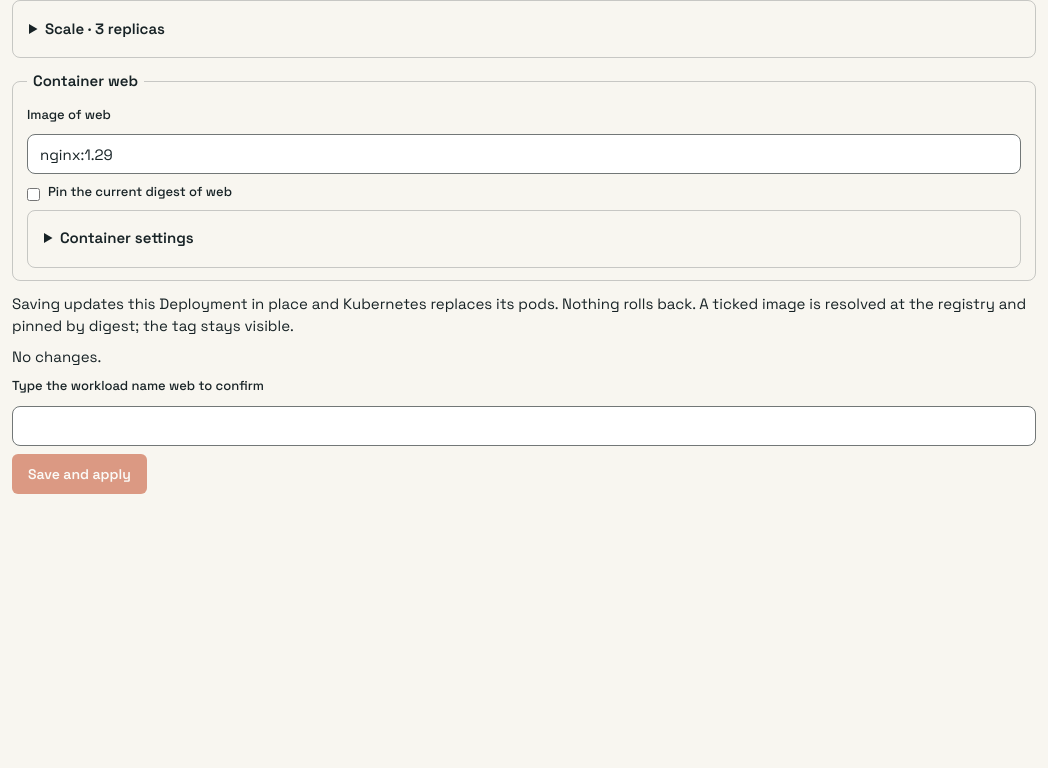
Test: renders a refused apply as fixed text
Replace the text in the field labelled "Image of web" with "nginx:1.30" at (524, 154), box [27,134,1021,174]
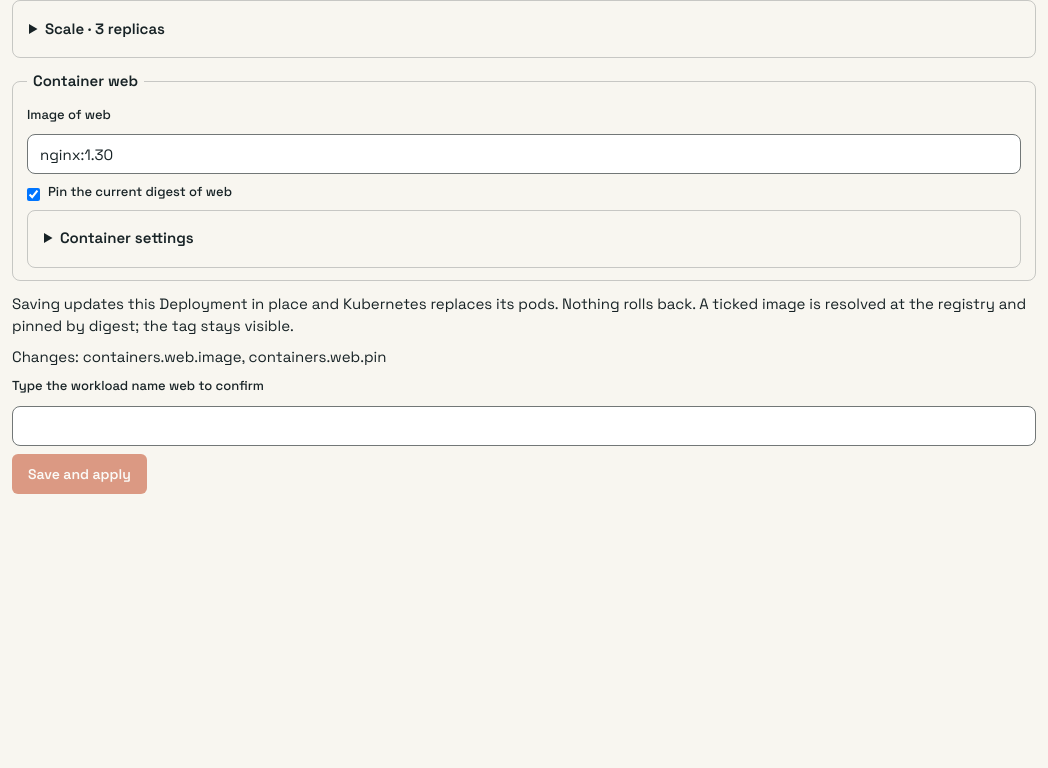
Type "web" into the field labelled "Type the workload name web to confirm" at (524, 426), box [12,406,1036,446]
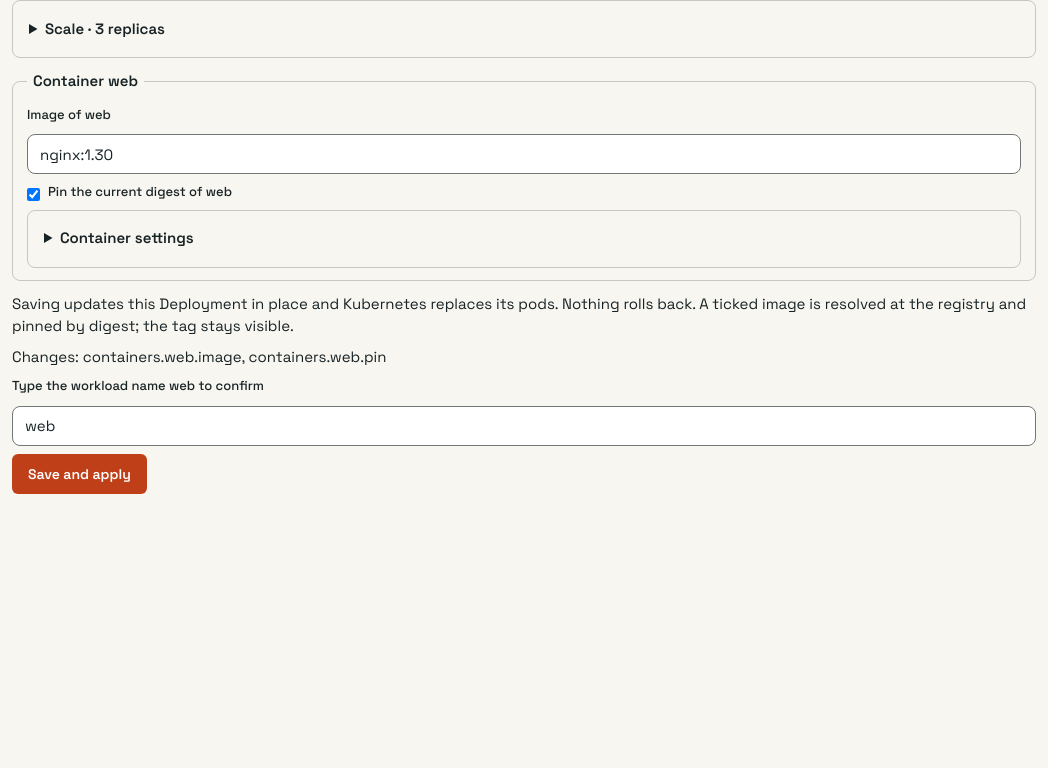
Click the button "Save and apply" at (79, 474), box [12,454,147,494]
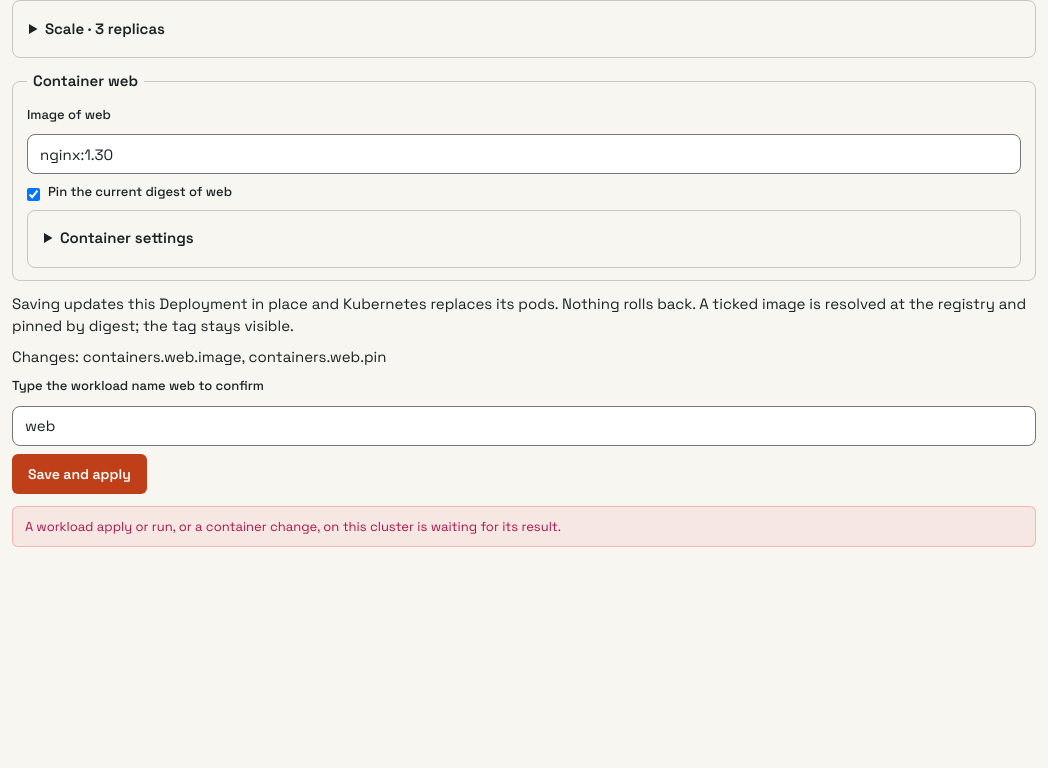
expect the message shows "A workload apply or run, or a container change, on this cluster is waiting for its result.": met, box [25,518,561,535]
